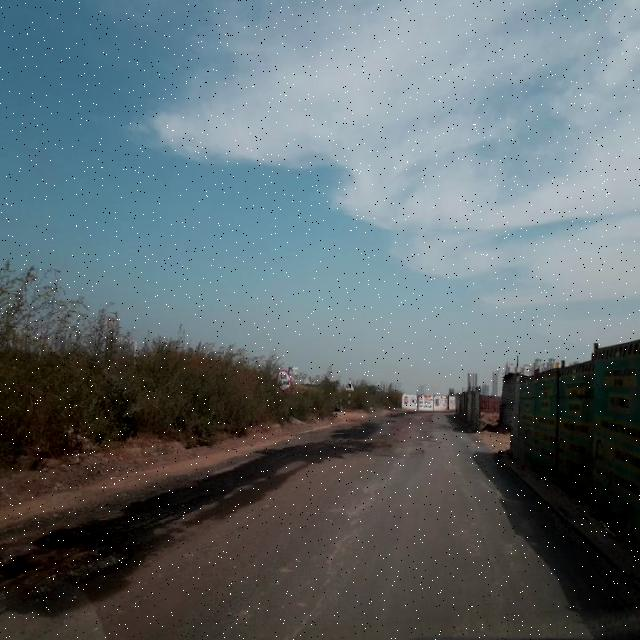D00: (305, 460, 404, 628)
D40: (0, 454, 283, 636), (287, 419, 455, 474)
